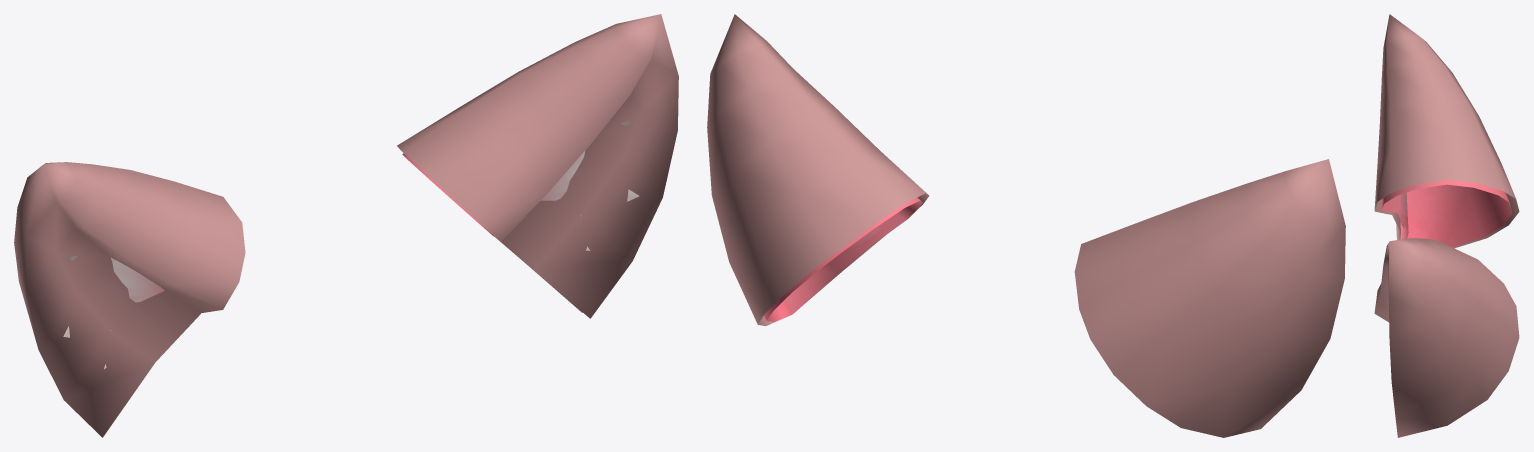
File: cat_ear.fbx
3 views of the same model, side by side, from view 1: azimuth 30°, elevation 25°; view 2: azimuth 150°, elevation 25°; view 3: azimuth 270°, elevation 25° (orthographic). The views are drawn at different scales.
Parts seen in each view (by area): view 1: cat_ear_m; view 2: cat_ear_m; view 3: cat_ear_m.
Part boxes in pixels (x1,y1,x2,y2): cat_ear_m: (14, 14, 678, 437); cat_ear_m: (707, 14, 1345, 437); cat_ear_m: (1374, 14, 1519, 437).
Size of the model in its own units: 15.08 by 6.47 by 3.85.
